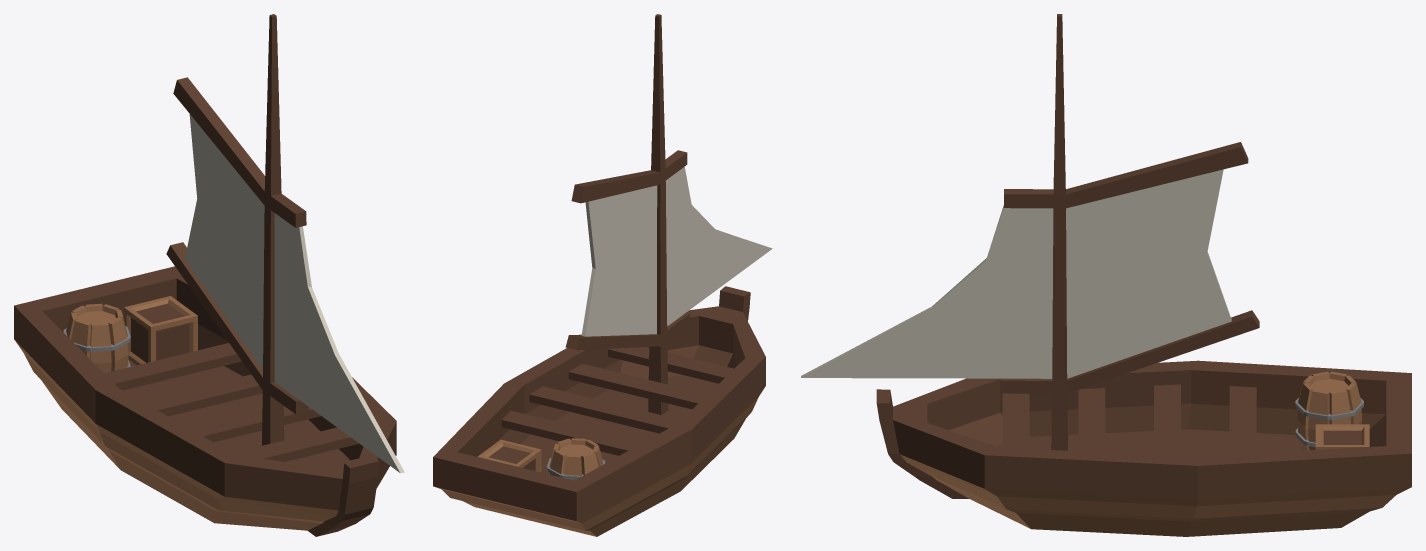
The model's file is sailboat.glb.
3 views of the same model, side by side, from view 1: azimuth 30°, elevation 25°; view 2: azimuth 150°, elevation 25°; view 3: azimuth 270°, elevation 25° (orthographic). The views are drawn at different scales.
Parts seen in each view (by area): view 1: Sail; view 2: Sail; view 3: Sail.
Boxes of the visible parts, bbox=[...] form: Sail: bbox=[14, 14, 404, 536]; Sail: bbox=[433, 14, 772, 536]; Sail: bbox=[801, 14, 1411, 536].
Bounding box in the file's own units: 0.4032 × 0.8548 × 0.989.
